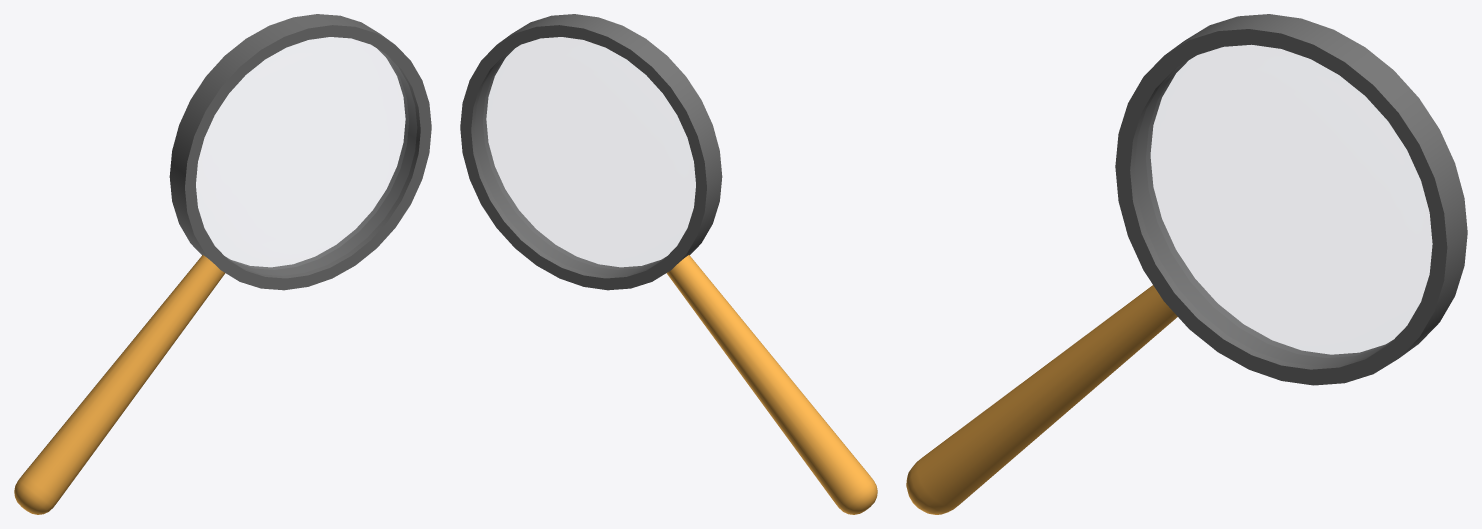
Rendered from magnifying_glass_tilted_right.glb.
3 views of the same model, side by side, from view 1: azimuth 30°, elevation 25°; view 2: azimuth 150°, elevation 25°; view 3: azimuth 330°, elevation 25° (orthographic). The views are drawn at different scales.
Parts seen in each view (by area): view 1: Sphere.529; view 2: Sphere.529; view 3: Sphere.529.
Boxes of the visible parts, box(x1,y1,x2,y2) form: Sphere.529: box(14, 14, 431, 514); Sphere.529: box(460, 14, 877, 514); Sphere.529: box(906, 14, 1467, 514).
Bounding box in the file's own units: 2.17 × 2.17 × 0.2069.
2 materials, 1 textured.
